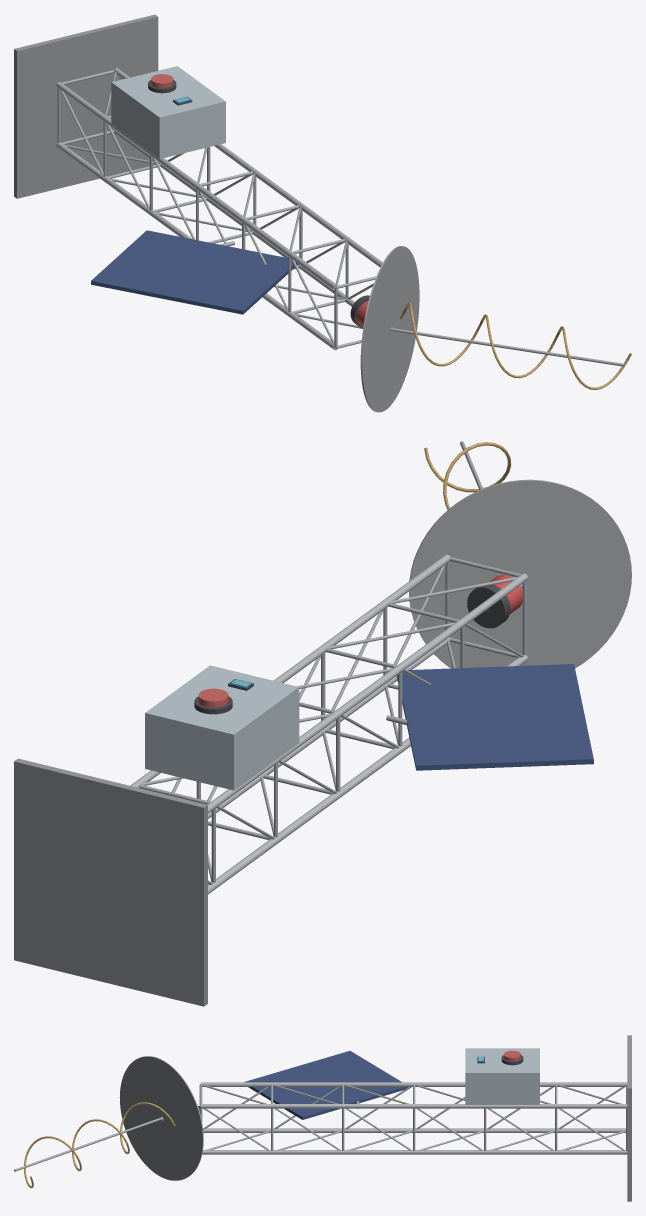
The model's file is rescue_tower.glb.
3 views of the same model, one above another, from view 1: azimuth 30°, elevation 25°; view 2: azimuth 150°, elevation 25°; view 3: azimuth 270°, elevation 25° (orthographic). The views are drawn at different scales.
Parts seen in each view (by area): view 1: base_plate, solar_panel, mast_bracing, enc_enclosure, rtt_antenna_reflector, mast_leg_4, mast_leg_1, mast_leg_3, rtt_antenna_helix, mast_leg_2, rtt_antenna_boom; view 2: base_plate, rtt_antenna_reflector, solar_panel, enc_enclosure, mast_bracing, mast_leg_4, mast_leg_1, mast_leg_3, mast_leg_2, beacon_base, rtt_antenna_helix; view 3: rtt_antenna_reflector, solar_panel, mast_bracing, enc_enclosure, mast_leg_2, mast_leg_3, mast_leg_1, mast_leg_4, rtt_antenna_helix, base_plate, rtt_antenna_boom.
Part boxes in pixels (x1,y1,x2,y2): base_plate: (14, 14, 158, 198); solar_panel: (91, 230, 298, 314); mast_bracing: (57, 70, 376, 348); enc_enclosure: (111, 66, 225, 158); rtt_antenna_reflector: (360, 246, 419, 412); mast_leg_4: (56, 82, 337, 289); mast_leg_1: (56, 142, 337, 350); mast_leg_3: (114, 68, 382, 267); rtt_antenna_helix: (400, 302, 631, 389); mast_leg_2: (114, 129, 354, 306); rtt_antenna_boom: (390, 328, 625, 366); base_plate: (14, 758, 207, 1006); rtt_antenna_reflector: (409, 479, 631, 668); solar_panel: (396, 664, 593, 770); enc_enclosure: (145, 665, 299, 790); mast_bracing: (139, 557, 526, 884); mast_leg_4: (207, 573, 528, 813); mast_leg_1: (208, 655, 528, 894); mast_leg_3: (130, 554, 450, 787); mast_leg_2: (208, 637, 450, 818); beacon_base: (467, 584, 510, 628); rtt_antenna_helix: (424, 442, 511, 509); rtt_antenna_reflector: (119, 1056, 203, 1180); solar_panel: (244, 1051, 408, 1119); mast_bracing: (199, 1083, 627, 1150); enc_enclosure: (465, 1048, 539, 1104); mast_leg_2: (202, 1150, 627, 1154); mast_leg_3: (201, 1104, 627, 1108); mast_leg_1: (203, 1128, 625, 1132); mast_leg_4: (201, 1082, 627, 1086); rtt_antenna_helix: (24, 1102, 175, 1188); base_plate: (627, 1035, 631, 1201); rtt_antenna_boom: (14, 1117, 161, 1171).
Bounding box in the file's own units: 756 × 346 × 1577.
